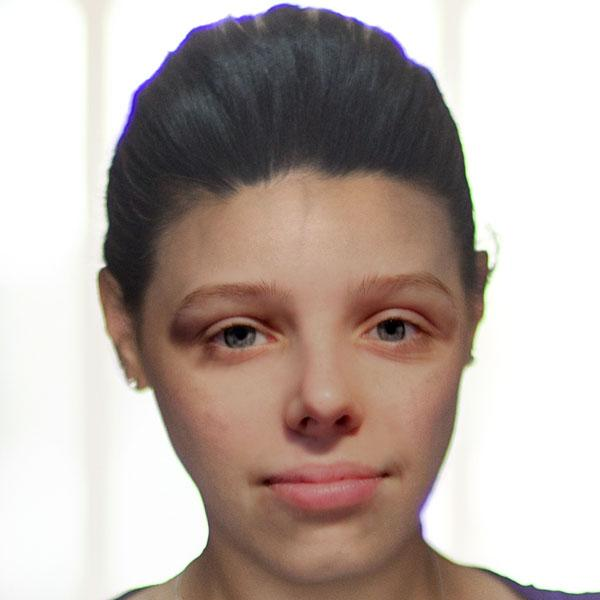Eyes: (184, 300, 292, 368), (350, 298, 450, 365)
